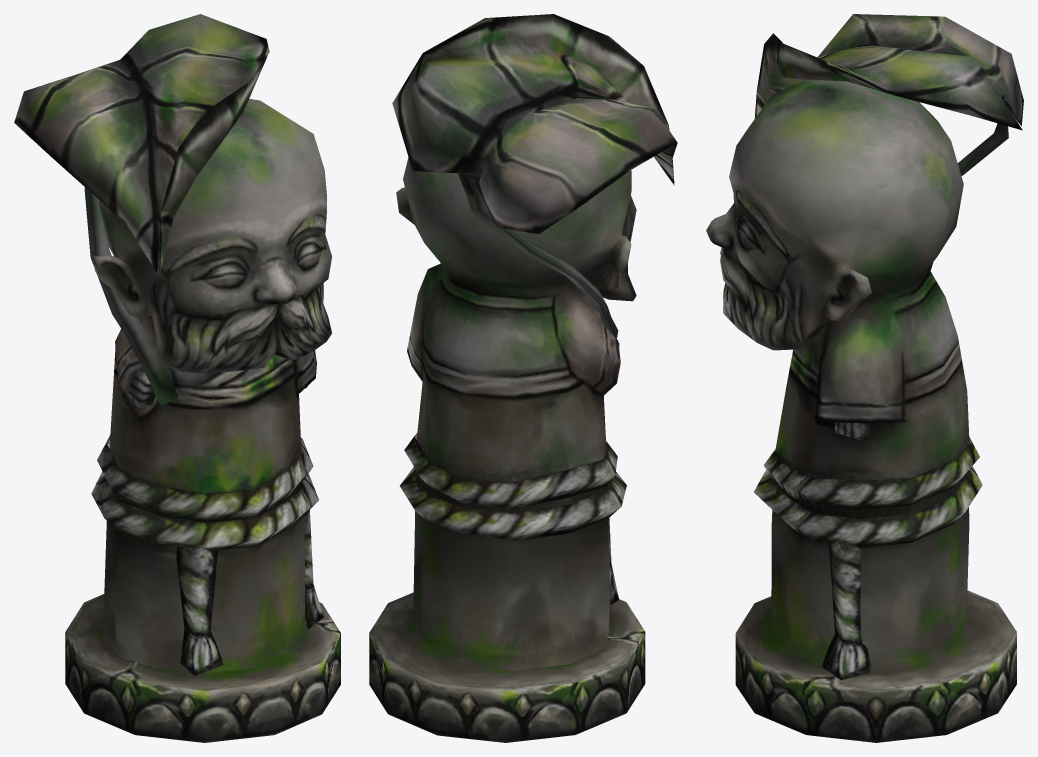
Rendered from PRP_ShrineSprite01.FBX.
The picture shows the model from 3 angles, left to right: view 1: azimuth 30°, elevation 25°; view 2: azimuth 150°, elevation 25°; view 3: azimuth 270°, elevation 25°; orthographic projection.
Parts seen in each view (by area): view 1: PRP_ShrineSprite01; view 2: PRP_ShrineSprite01; view 3: PRP_ShrineSprite01.
Part boxes in pixels (bbox=[...]): PRP_ShrineSprite01: bbox=[14, 14, 340, 742]; PRP_ShrineSprite01: bbox=[369, 14, 677, 742]; PRP_ShrineSprite01: bbox=[706, 14, 1023, 742].
Size of the model in its own units: 49.55 by 108 by 48.41.
